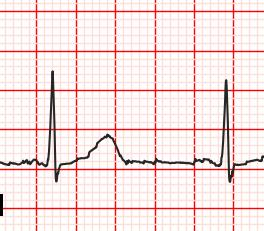ST Depression: (217, 157, 238, 187), (44, 161, 67, 184)
